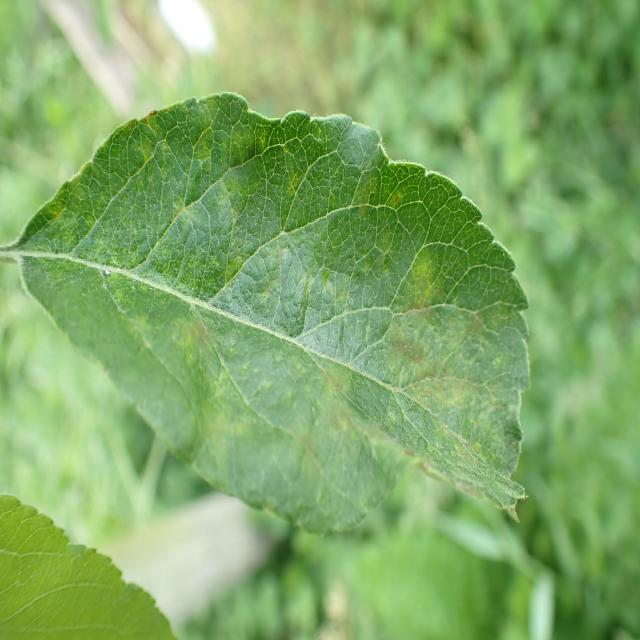scab: (60, 100, 518, 506)
